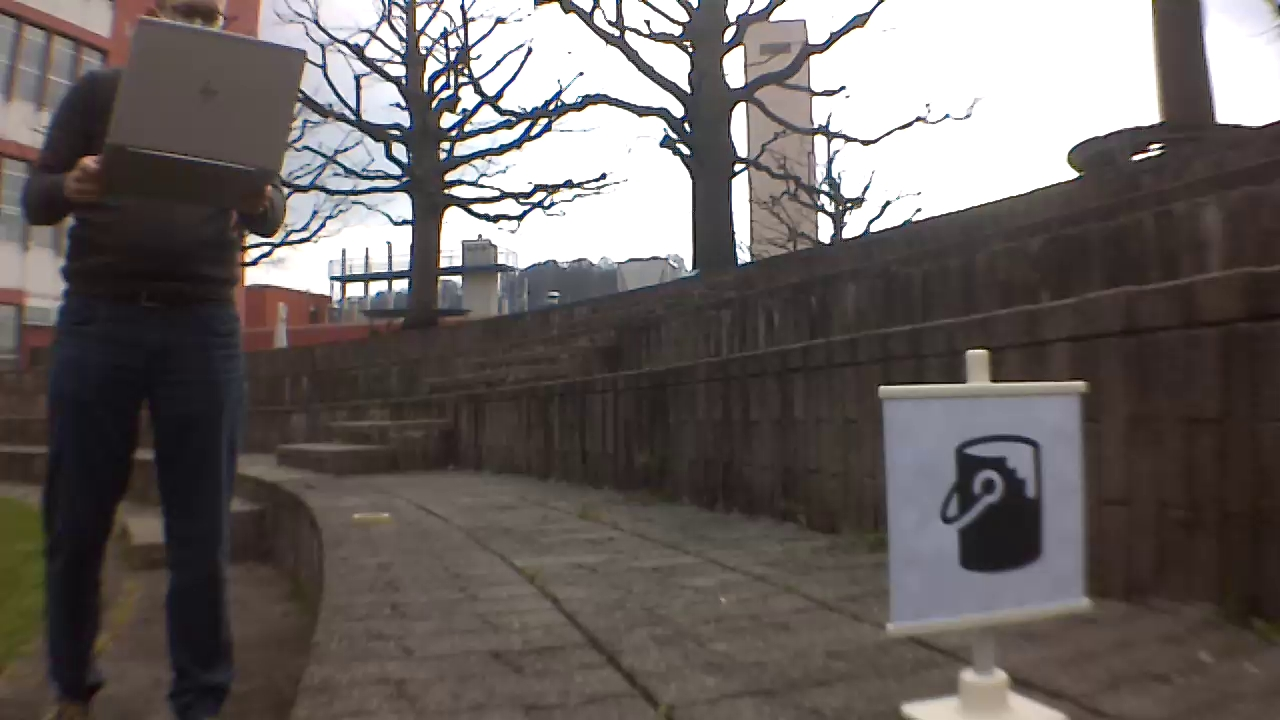bucket: (936, 432, 1053, 574)
